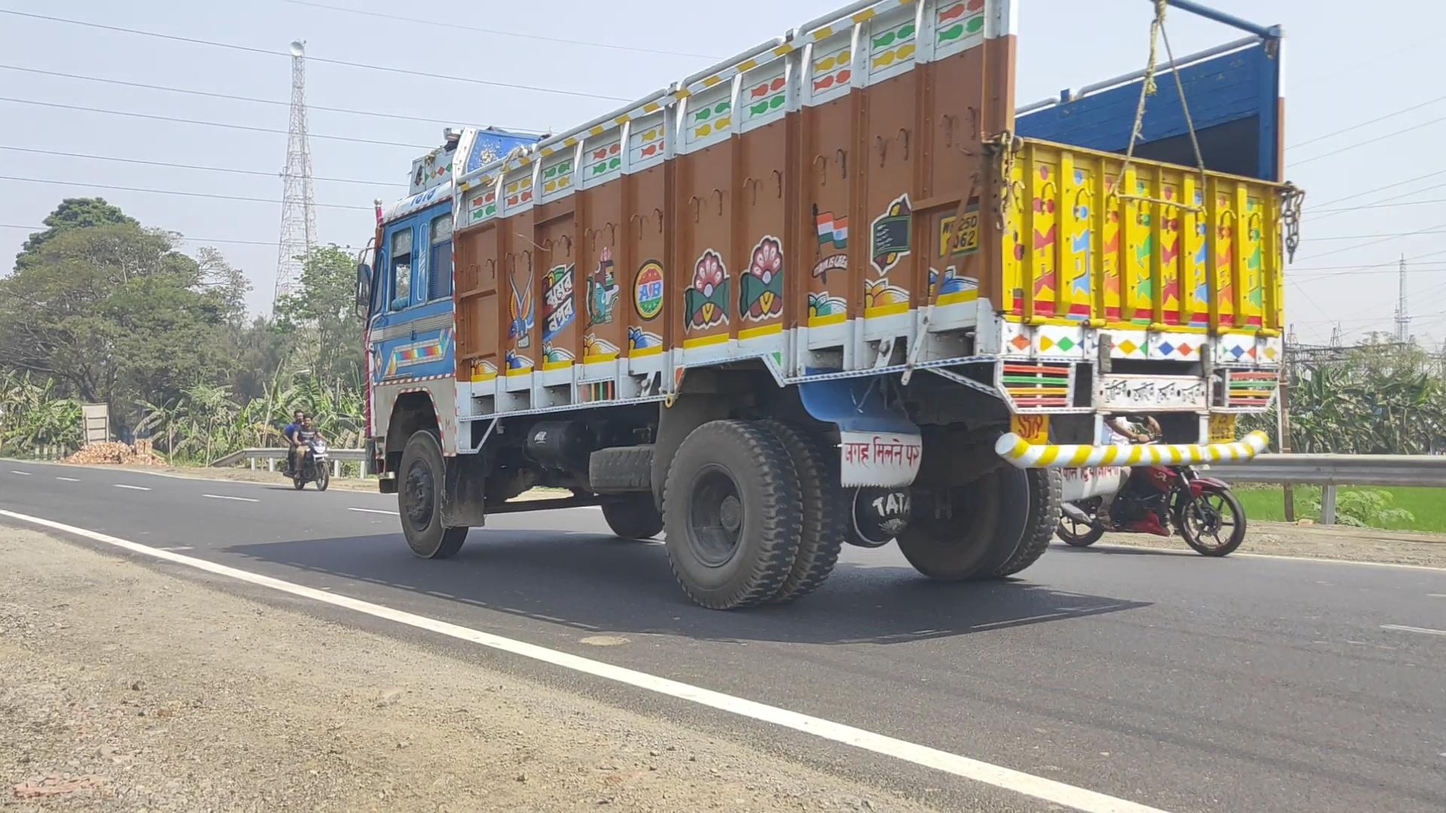bike: (1048, 407, 1249, 559), (280, 409, 332, 492)
truck: (355, 2, 1304, 611)
